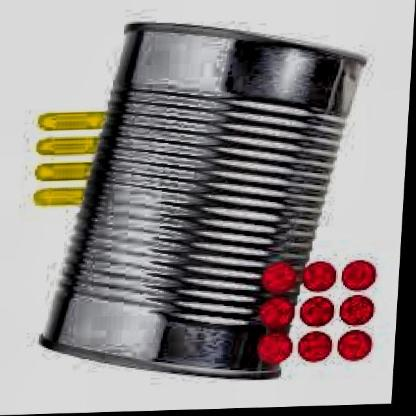Can: (38, 23, 364, 381)
